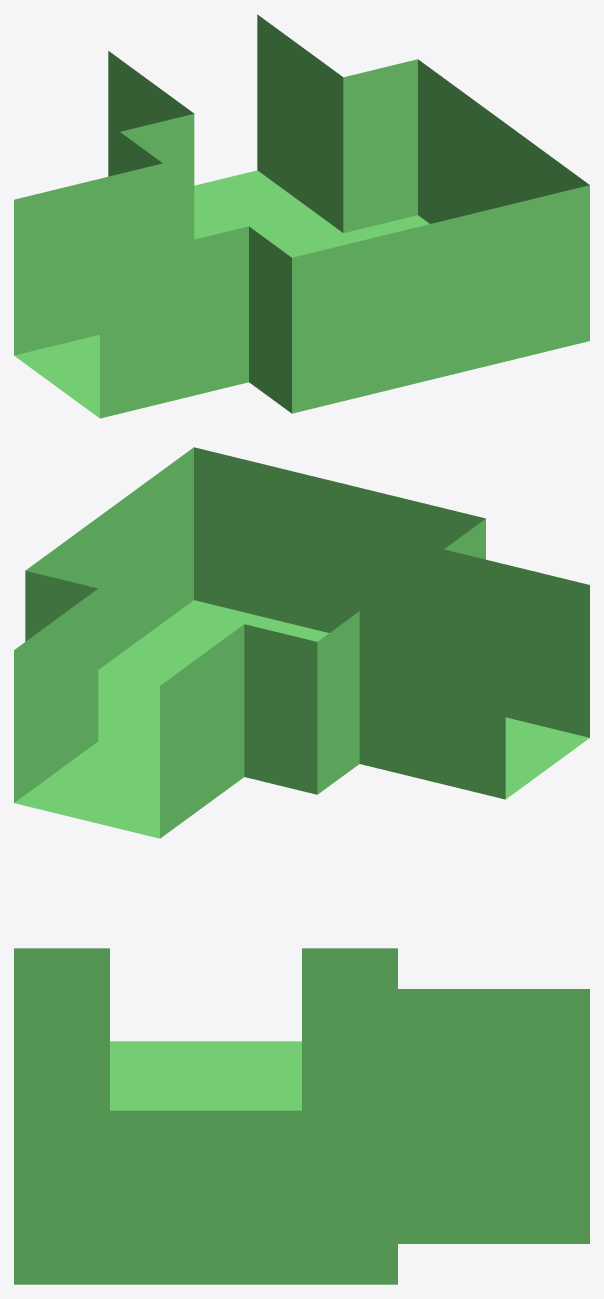
The model's file is L_room_270.glb.
3 views of the same model, one above another, from view 1: azimuth 30°, elevation 25°; view 2: azimuth 150°, elevation 25°; view 3: azimuth 270°, elevation 25° (orthographic). The views are drawn at different scales.
Visible parts, largest first — view 1: L_room_270; view 2: L_room_270; view 3: L_room_270.
Part boxes in pixels (x1=…): L_room_270: x1=14, y1=14, x2=589, y2=418; L_room_270: x1=14, y1=447, x2=589, y2=838; L_room_270: x1=14, y1=948, x2=589, y2=1284.
Size of the model in its own units: 3 by 1 by 3.
